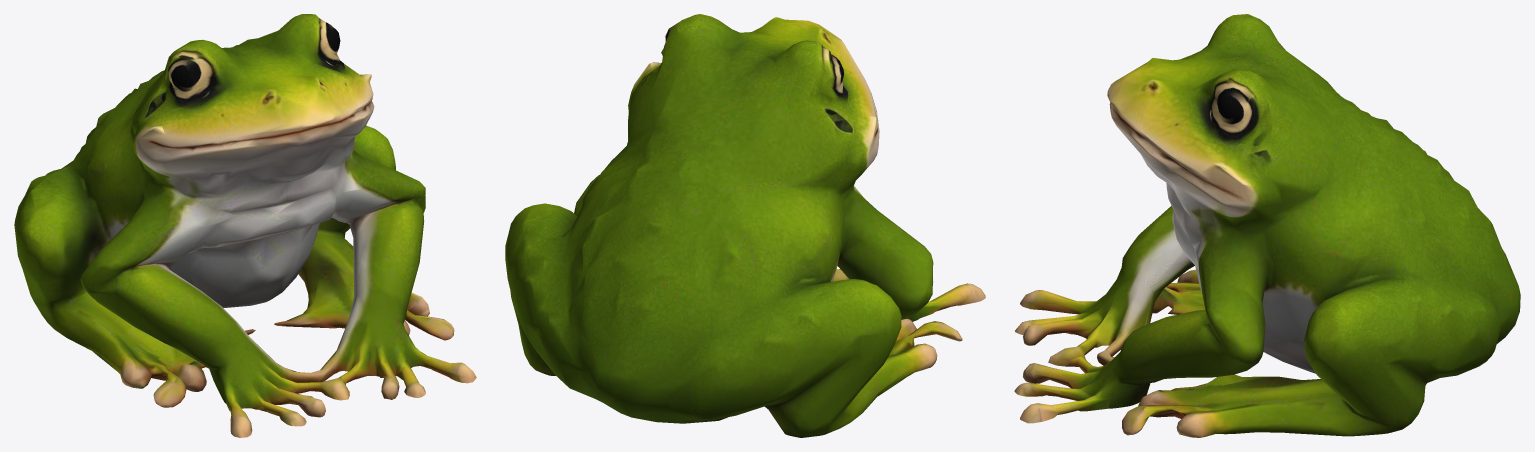
File: frog-1.glb
3 views of the same model, side by side, from view 1: azimuth 30°, elevation 25°; view 2: azimuth 150°, elevation 25°; view 3: azimuth 270°, elevation 25° (orthographic). The views are drawn at different scales.
Parts seen in each view (by area): view 1: Mesh_0; view 2: Mesh_0; view 3: Mesh_0.
Boxes of the visible parts, x1,y1,x2,y2 form: Mesh_0: [14, 14, 476, 437]; Mesh_0: [505, 14, 985, 437]; Mesh_0: [1014, 14, 1520, 437].
Bounding box in the file's own units: 1.66 × 1.3 × 1.89.
Materials: 1 (1 with a texture image).
